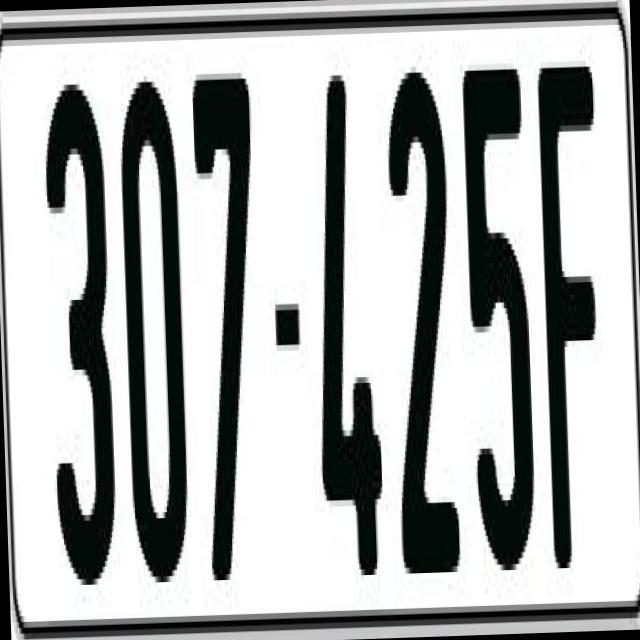0: (118, 74, 200, 612)
2: (382, 54, 463, 562)
3: (41, 83, 121, 621)
4: (307, 68, 390, 600)
5: (460, 62, 540, 576)
7: (188, 60, 266, 574)
F: (532, 65, 614, 586)
